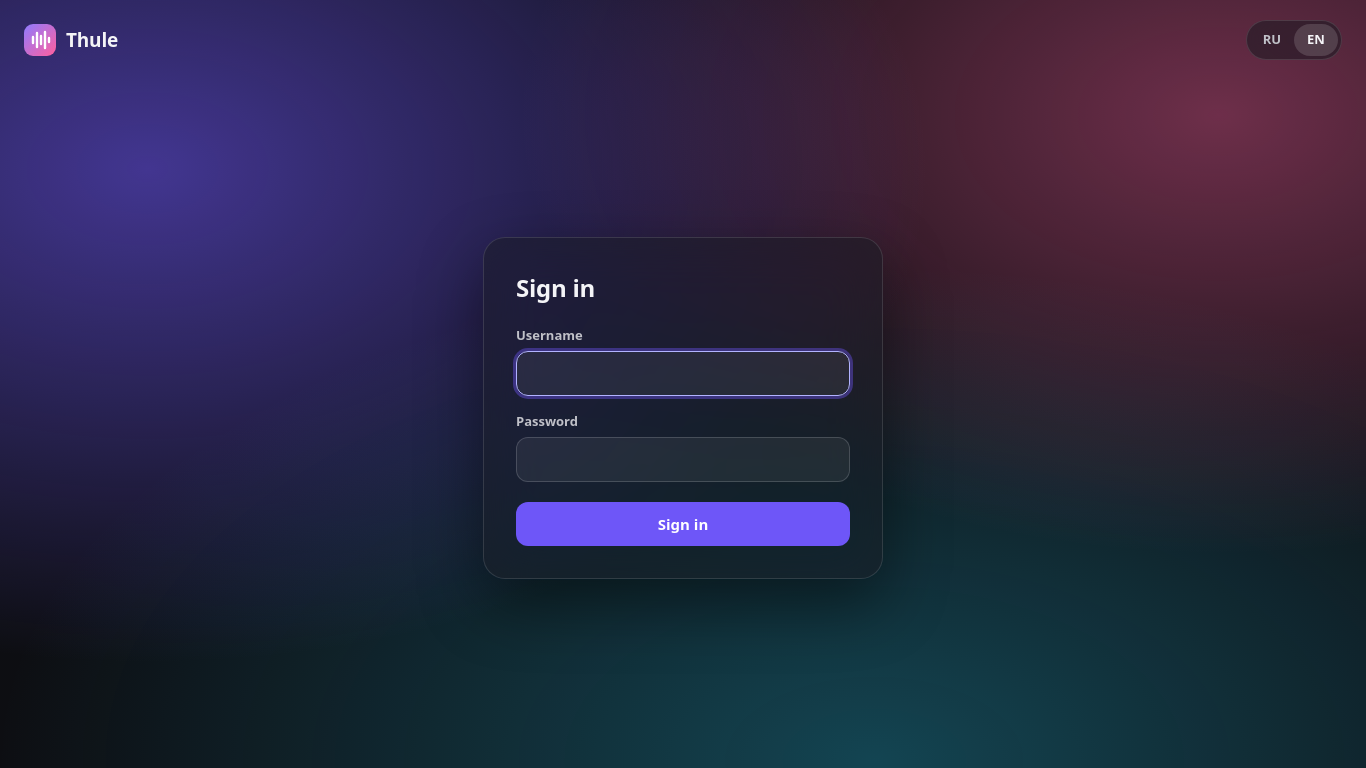
Test: empty fields are pointed out without asking the server
The width and height of the screenshot is (1366, 768).
What coordinates should you click on to do the following:
click the button "Sign in"
I would click on:
 (683, 524)
Its box is [516,502,850,546].
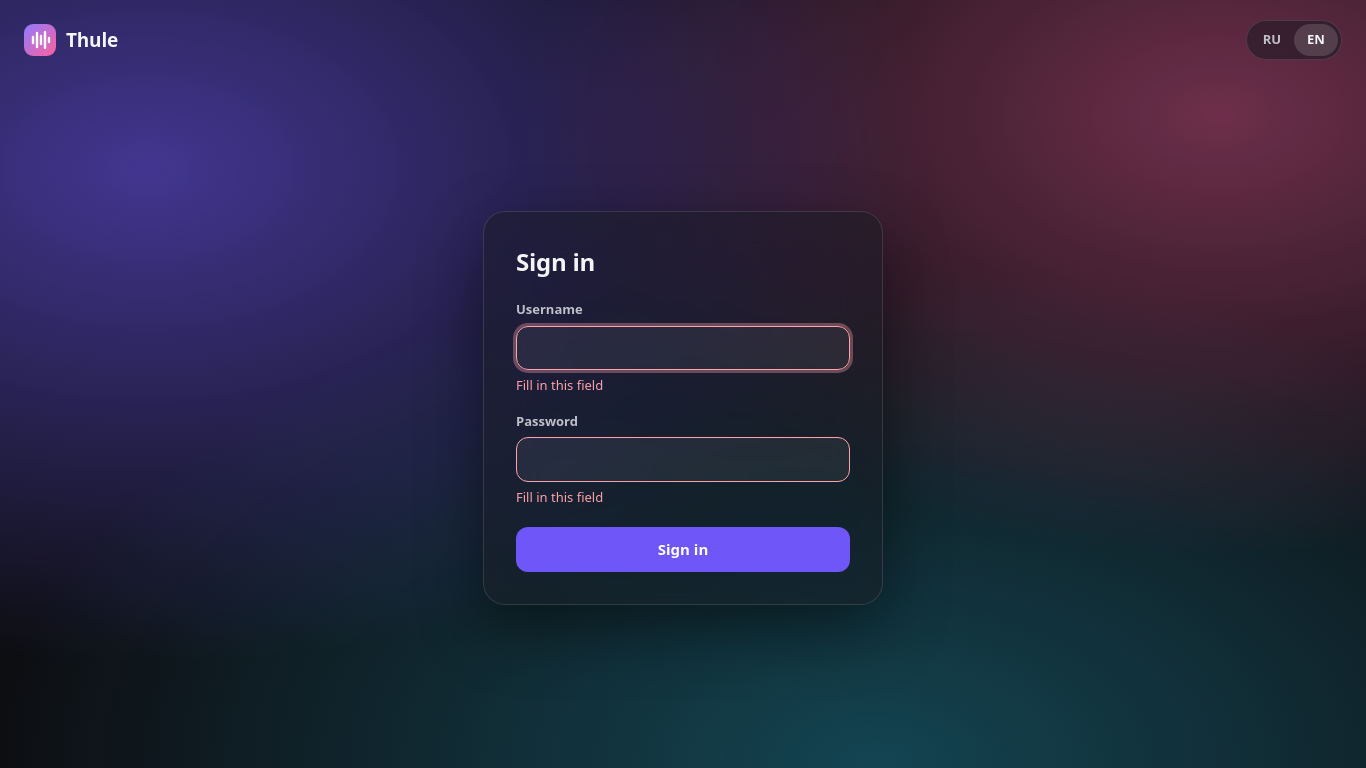
Result: the text "Fill in this field" is shown 2 times at [516,376,603,394]; [516,488,603,506]
